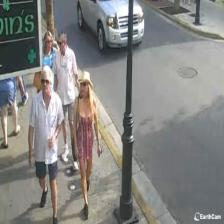person: (28, 64, 64, 224), (72, 71, 100, 218), (53, 32, 80, 171), (31, 30, 56, 169)
